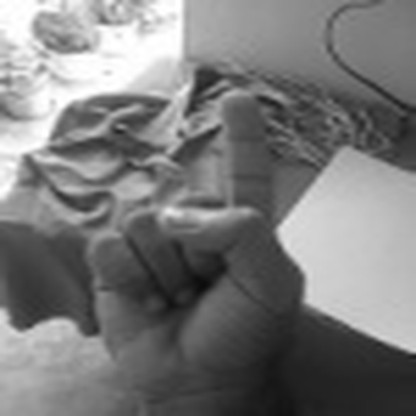d: (74, 89, 295, 416)
